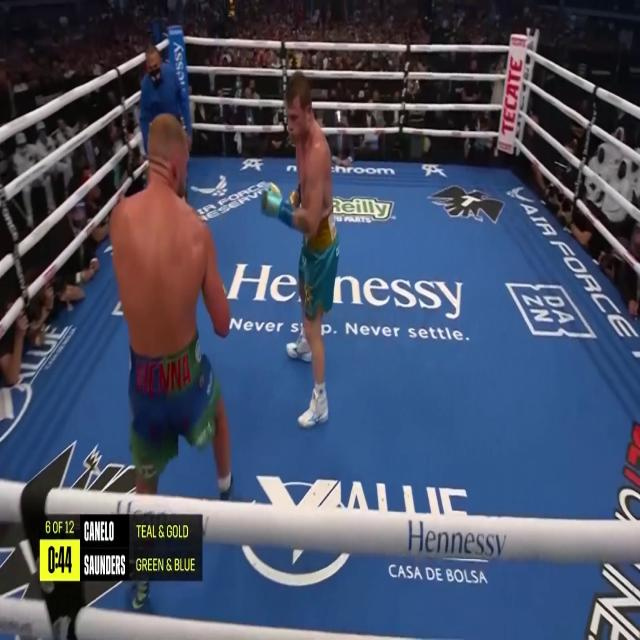boxer_1: (110, 113, 230, 356)
boxer_2: (287, 71, 332, 241)
gloves_2: (261, 181, 300, 226)
